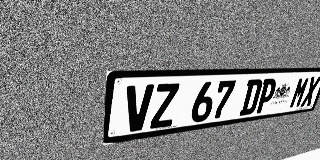6: (190, 81, 217, 123)
7: (210, 80, 236, 120)
D: (239, 79, 264, 116)
M: (288, 77, 311, 109)
P: (254, 78, 278, 114)
V: (123, 84, 154, 133)
X: (300, 76, 320, 107)
Z: (150, 83, 180, 129)
